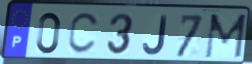0: (36, 11, 62, 55)
3: (104, 12, 135, 57)
7: (175, 13, 205, 58)
C: (66, 12, 101, 57)
J: (142, 14, 169, 57)
M: (203, 13, 249, 61)
